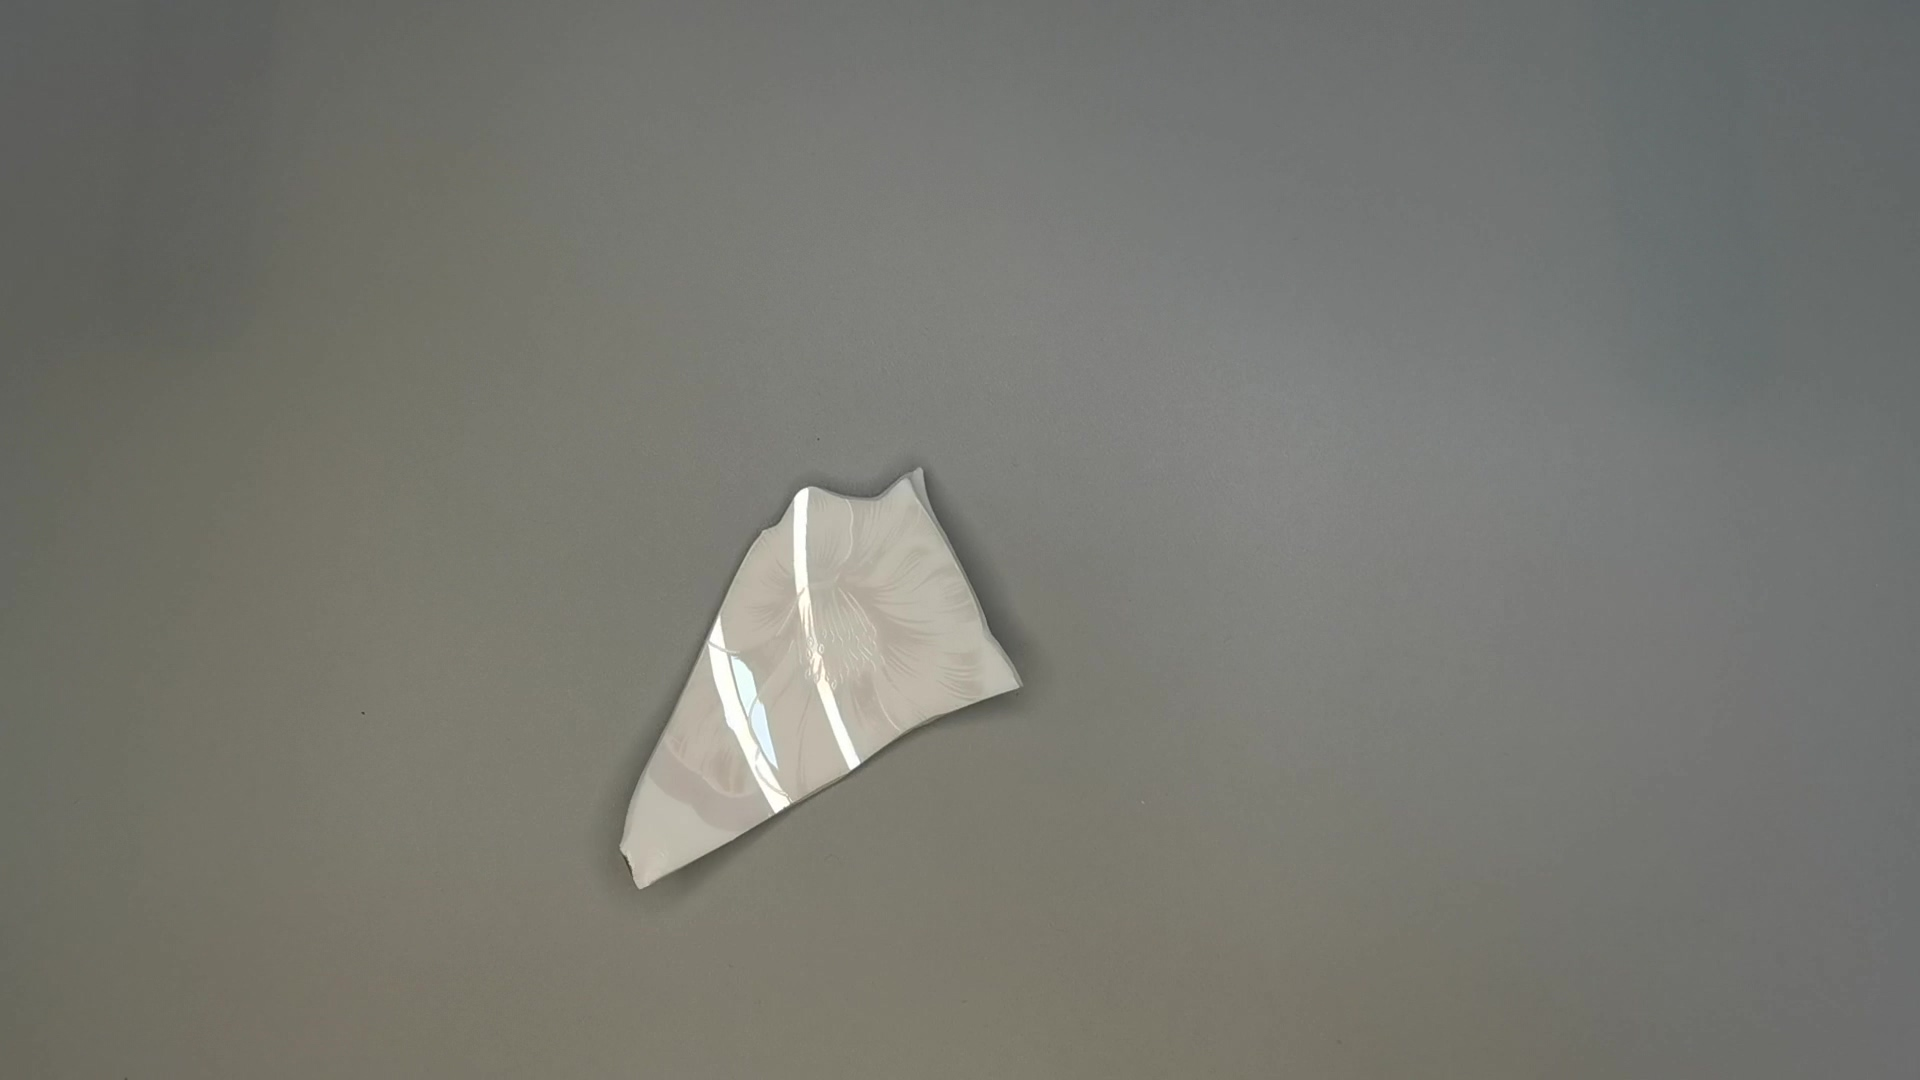ceramic: (617, 460, 1022, 895)
